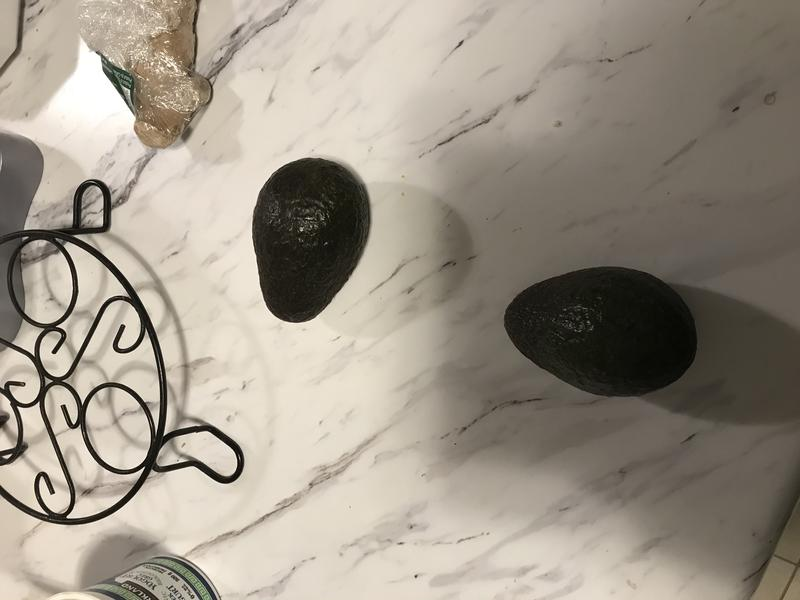avocado: (492, 258, 710, 403), (246, 154, 376, 331)
